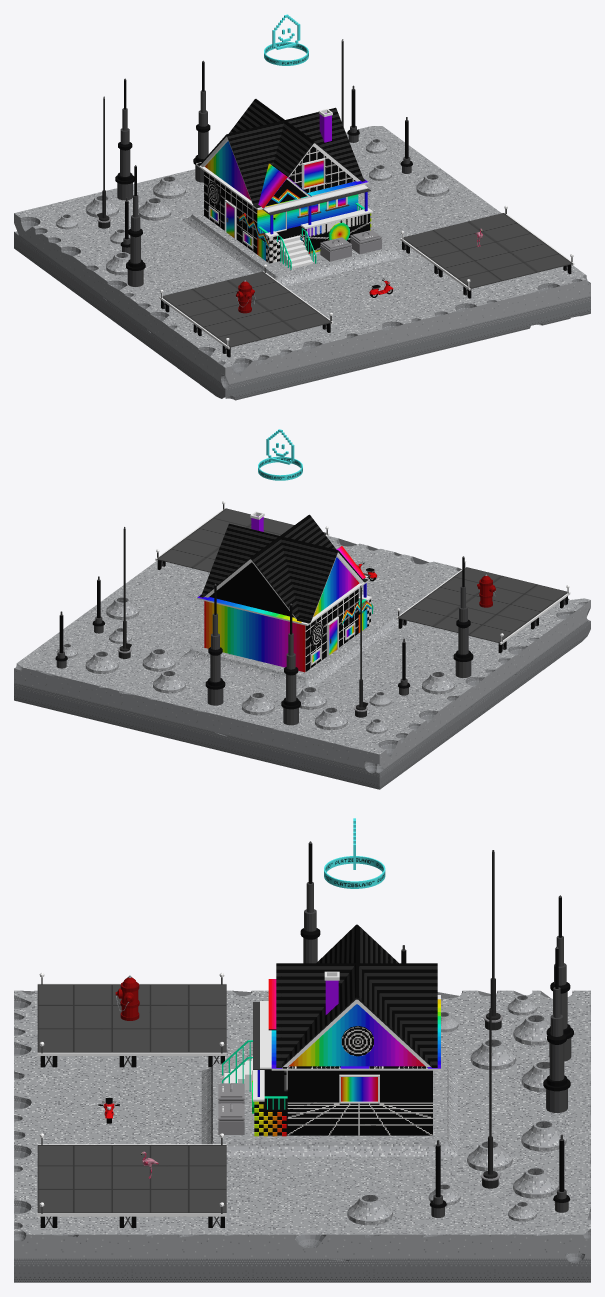
The picture shows the model from 3 angles, top to bottom: view 1: azimuth 30°, elevation 25°; view 2: azimuth 150°, elevation 25°; view 3: azimuth 270°, elevation 25°; orthographic projection. The views are drawn at different scales.
Visible parts, largest first — view 1: Cube.027, Cube.1320, Cube.026, Cube.025, Cube.028, Cylinder.021, Cylinder.020, Cylinder.017, TYPE_PREMIUM, Cube.029, Cube.030, Cylinder.026 (+2 smaller); view 2: Cube.027, Cube.1320, Cube.025, Cube.028, Cube.026, Cylinder.017, Cylinder.021, Cylinder.020, TYPE_PREMIUM, Cylinder.030, Cylinder.029, Cylinder.025 (+6 smaller); view 3: Cube.027, Cube.1320, Cube.026, Cube.025, Cube.028, Cylinder.017, Cylinder.020, Cylinder.021, TYPE_PREMIUM, Cylinder.033, Cylinder.031, Cylinder.026 (+10 smaller).
Part boxes in pixels (x1=…): Cube.027: x1=14, y1=126, x2=590, y2=400; Cube.1320: x1=196, y1=99, x2=372, y2=269; Cube.026: x1=400, y1=205, x2=574, y2=298; Cube.025: x1=159, y1=264, x2=333, y2=357; Cube.028: x1=182, y1=211, x2=403, y2=286; Cylinder.021: x1=126, y1=165, x2=145, y2=286; Cylinder.020: x1=115, y1=78, x2=134, y2=200; Cylinder.017: x1=193, y1=60, x2=210, y2=182; TYPE_PREMIUM: x1=264, y1=14, x2=308, y2=65; Cube.029: x1=320, y1=237, x2=351, y2=261; Cube.030: x1=350, y1=230, x2=381, y2=254; Cylinder.026: x1=138, y1=197, x2=171, y2=220; Cube.027: x1=14, y1=536, x2=590, y2=789; Cube.1320: x1=197, y1=511, x2=373, y2=672; Cube.025: x1=396, y1=560, x2=570, y2=653; Cube.028: x1=181, y1=610, x2=398, y2=688; Cube.026: x1=155, y1=501, x2=329, y2=572; Cylinder.017: x1=205, y1=583, x2=225, y2=705; Cylinder.021: x1=453, y1=556, x2=473, y2=677; Cylinder.020: x1=281, y1=603, x2=300, y2=725; TYPE_PREMIUM: x1=258, y1=429, x2=302, y2=480; Cylinder.030: x1=142, y1=648, x2=175, y2=671; Cylinder.029: x1=153, y1=670, x2=185, y2=693; Cylinder.025: x1=422, y1=671, x2=454, y2=694; Cube.027: x1=14, y1=990, x2=590, y2=1282; Cube.1320: x1=222, y1=924, x2=440, y2=1136; Cube.026: x1=37, y1=1133, x2=226, y2=1227; Cube.025: x1=37, y1=973, x2=226, y2=1067; Cube.028: x1=201, y1=1063, x2=457, y2=1156; Cylinder.017: x1=543, y1=946, x2=570, y2=1112; Cylinder.020: x1=546, y1=895, x2=573, y2=1061; Cylinder.021: x1=300, y1=841, x2=320, y2=963; TYPE_PREMIUM: x1=324, y1=818, x2=385, y2=888; Cylinder.033: x1=347, y1=1194, x2=392, y2=1225; Cylinder.031: x1=513, y1=1167, x2=558, y2=1198; Cylinder.026: x1=470, y1=1038, x2=516, y2=1069.
Bounding box in the file's own units: 4000 × 2707 × 4000.
Materials: 33 (7 with a texture image).
